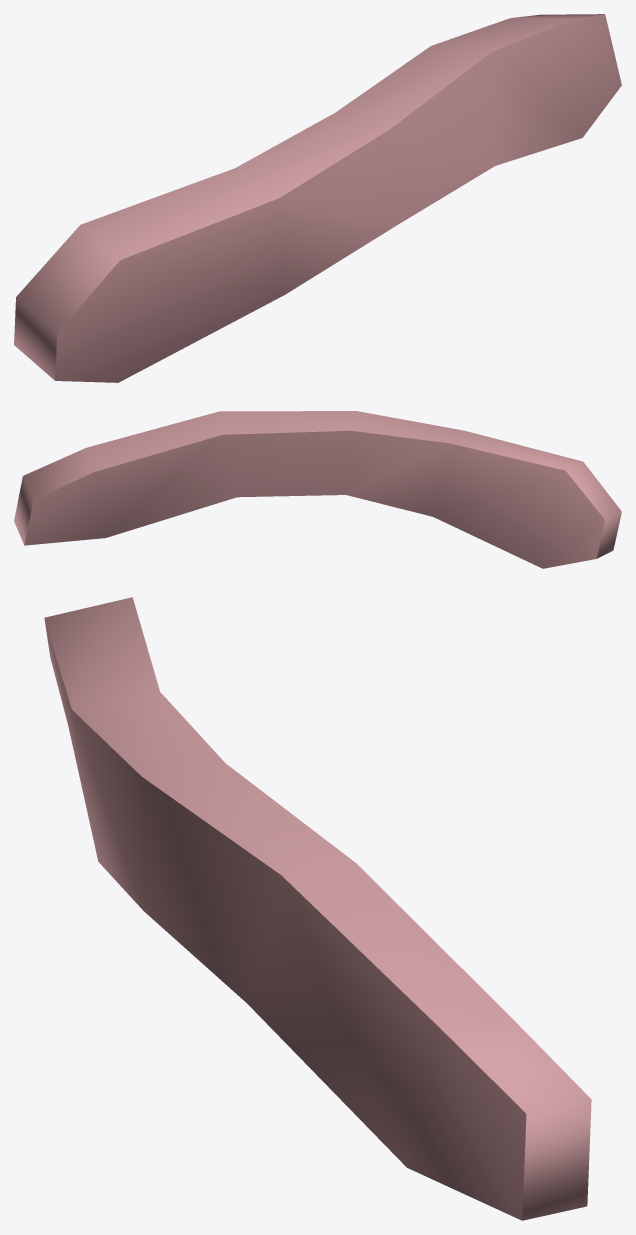
The picture shows the model from 3 angles, top to bottom: view 1: azimuth 30°, elevation 25°; view 2: azimuth 150°, elevation 25°; view 3: azimuth 270°, elevation 25°; orthographic projection. The views are drawn at different scales.
Visible parts, largest first — view 1: ZA_7208d37087b43e1d; view 2: ZA_7208d37087b43e1d; view 3: ZA_7208d37087b43e1d.
Boxes of the visible parts, x1,y1,x2,y2 form: ZA_7208d37087b43e1d: (14,14,621,382); ZA_7208d37087b43e1d: (14,411,621,568); ZA_7208d37087b43e1d: (44,597,591,1220).
Bounding box in the file's own units: 0.0378 × 0.00815 × 0.0181.
